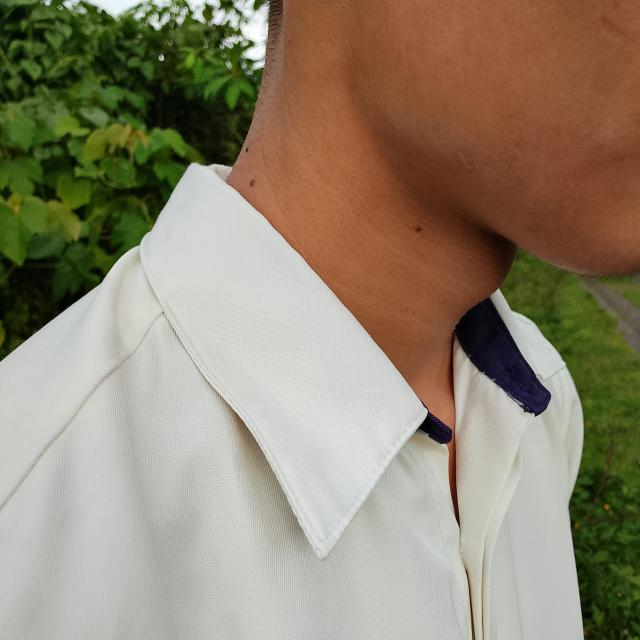education_male_uniform: (0, 98, 629, 626)
